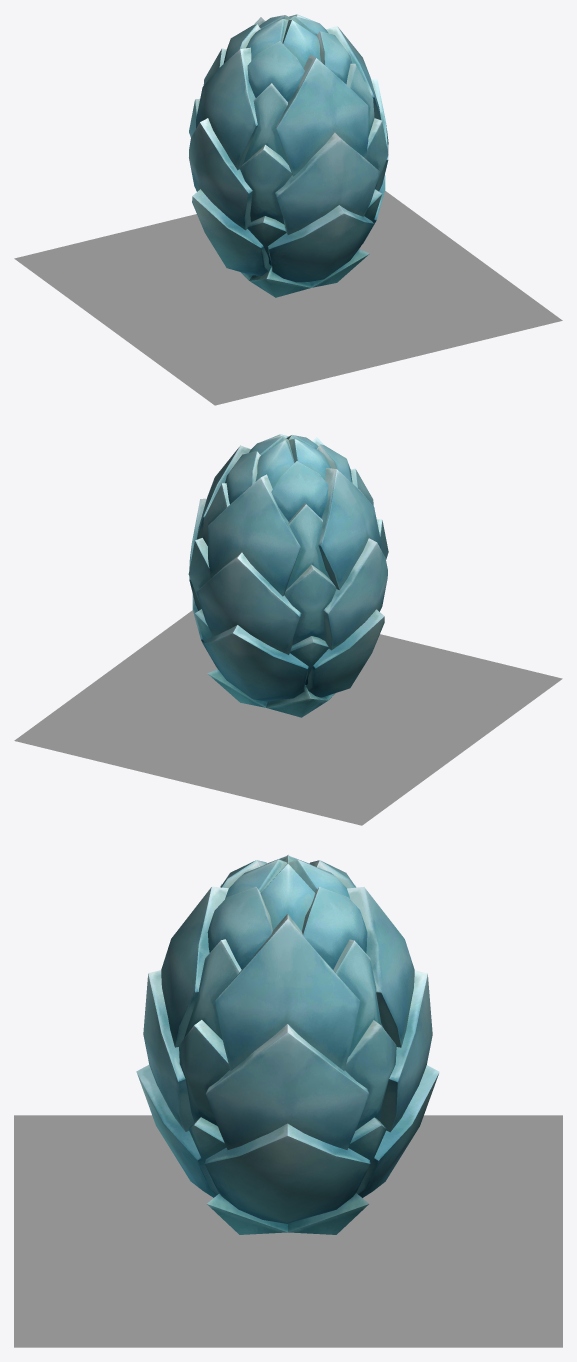
The model's file is Container.fbx.
3 views of the same model, one above another, from view 1: azimuth 30°, elevation 25°; view 2: azimuth 150°, elevation 25°; view 3: azimuth 270°, elevation 25° (orthographic). The views are drawn at different scales.
Parts seen in each view (by area): view 1: EggGalo, egg; view 2: EggGalo, egg; view 3: EggGalo, egg.
Boxes of the visible parts, <box> form: EggGalo: <box>14,190,562,405</box>; egg: <box>189,14,388,297</box>; EggGalo: <box>14,610,562,825</box>; egg: <box>188,434,388,717</box>; EggGalo: <box>14,1115,562,1347</box>; egg: <box>136,854,439,1234</box>.
Size of the model in its own units: 1.87 by 1.4 by 1.87.
